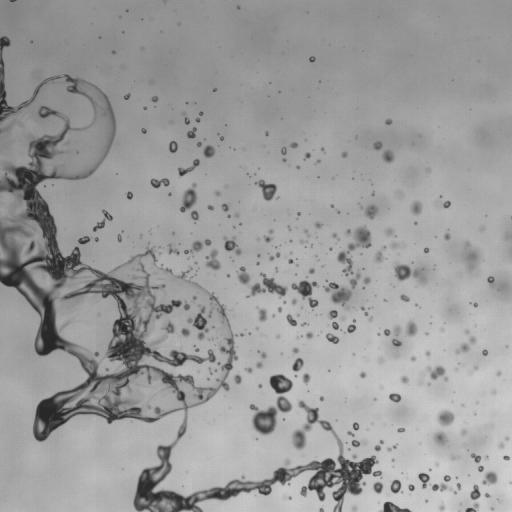droplet: (0, 36, 59, 123), (249, 374, 292, 435), (291, 279, 318, 308), (323, 282, 351, 309), (431, 475, 461, 494), (463, 241, 481, 272), (255, 179, 276, 200), (223, 237, 241, 255), (426, 365, 447, 380), (206, 249, 220, 270), (437, 409, 454, 426), (482, 471, 497, 485), (405, 321, 417, 336), (365, 205, 377, 219), (418, 473, 429, 488), (411, 201, 422, 215), (390, 479, 401, 493), (203, 145, 215, 157), (382, 150, 394, 162), (434, 431, 446, 443), (292, 358, 303, 371), (346, 319, 356, 332), (325, 333, 338, 343), (257, 307, 266, 321), (286, 314, 296, 326), (470, 453, 481, 463), (373, 482, 383, 493), (389, 393, 401, 402), (169, 141, 177, 153), (78, 236, 90, 244), (187, 128, 196, 138), (302, 373, 310, 384), (328, 310, 337, 319), (181, 328, 190, 337), (393, 325, 401, 335), (373, 141, 382, 149), (191, 210, 198, 220), (390, 242, 401, 248), (487, 276, 494, 285), (400, 294, 409, 301), (392, 339, 401, 346), (234, 374, 241, 383), (385, 228, 393, 235), (305, 332, 313, 339), (400, 376, 408, 383), (332, 233, 339, 240), (259, 351, 266, 358), (264, 236, 272, 242), (353, 422, 359, 430), (290, 142, 297, 148), (222, 204, 228, 211), (364, 277, 370, 284), (332, 322, 338, 329), (245, 367, 252, 373), (408, 484, 414, 491), (127, 191, 132, 199), (439, 503, 444, 511), (124, 93, 130, 99), (152, 96, 158, 102), (315, 222, 321, 228), (444, 233, 450, 239), (384, 329, 390, 335), (292, 347, 298, 353), (256, 362, 262, 368), (460, 429, 466, 435), (281, 147, 286, 154), (305, 152, 310, 159), (397, 427, 404, 432), (309, 57, 315, 62), (184, 118, 189, 124), (385, 119, 391, 124), (291, 298, 296, 304), (482, 349, 487, 355), (347, 431, 353, 436), (498, 443, 504, 448), (503, 455, 509, 460), (478, 465, 483, 471), (351, 506, 357, 511), (117, 234, 121, 241), (284, 495, 291, 499), (141, 128, 146, 133), (342, 152, 347, 157), (215, 190, 220, 195), (208, 205, 213, 210), (346, 229, 351, 234), (309, 268, 314, 273), (425, 351, 430, 356), (360, 372, 365, 377), (301, 322, 307, 326), (484, 493, 490, 497), (424, 248, 429, 252), (288, 259, 293, 263), (278, 307, 282, 312), (411, 356, 415, 361), (496, 371, 501, 375), (319, 507, 324, 511), (197, 142, 201, 146), (269, 229, 273, 233), (364, 312, 368, 316), (379, 358, 383, 362), (258, 384, 262, 388), (484, 455, 488, 459), (472, 303, 477, 306), (361, 306, 364, 311), (419, 379, 422, 384), (95, 237, 98, 241), (301, 240, 305, 243), (320, 396, 323, 400), (199, 112, 202, 115), (196, 118, 199, 121), (220, 137, 223, 140), (321, 148, 324, 151), (283, 158, 286, 161), (369, 317, 372, 320), (452, 456, 455, 459), (265, 132, 268, 134), (296, 166, 299, 168), (168, 193, 171, 195), (372, 192, 374, 195), (235, 214, 238, 216), (414, 222, 417, 224), (256, 262, 259, 264), (227, 274, 229, 277), (466, 330, 468, 333), (474, 367, 477, 369), (207, 377, 209, 380), (506, 437, 508, 440), (435, 463, 438, 465), (213, 89, 215, 91), (317, 160, 319, 162), (427, 169, 429, 171), (331, 205, 333, 207), (288, 227, 290, 229), (508, 236, 510, 238), (275, 269, 277, 271), (98, 313, 100, 315), (342, 317, 344, 319), (241, 333, 243, 335), (277, 335, 279, 337), (374, 398, 376, 400), (491, 507, 493, 509)
ligament: (0, 74, 378, 511), (337, 226, 371, 275), (237, 266, 287, 298), (394, 263, 425, 282), (180, 183, 196, 212), (93, 209, 112, 231), (184, 239, 211, 254), (465, 485, 480, 511), (455, 336, 476, 354), (178, 159, 199, 176), (378, 501, 411, 511), (0, 119, 15, 133), (374, 246, 386, 263), (349, 271, 360, 288), (150, 178, 169, 187), (168, 244, 179, 254), (374, 440, 383, 451), (436, 201, 450, 208), (351, 440, 365, 446), (269, 252, 279, 260), (387, 444, 396, 451), (208, 336, 216, 341), (194, 345, 199, 352), (304, 230, 309, 236), (10, 0, 15, 1), (510, 481, 511, 484)
